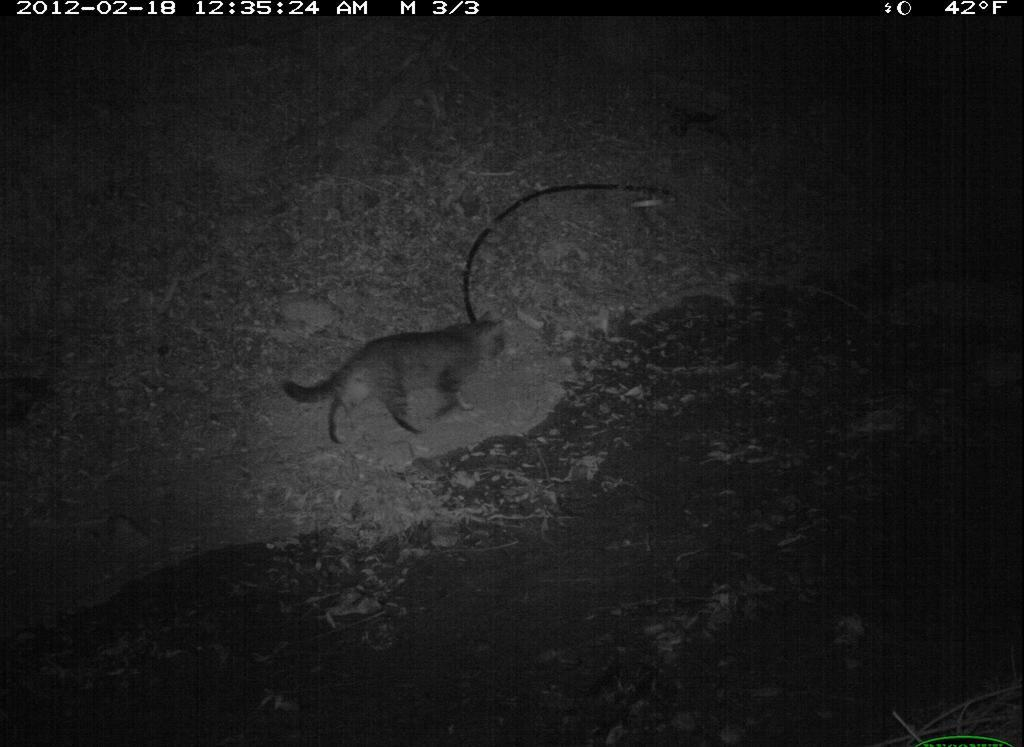cat: (280, 308, 527, 445)
